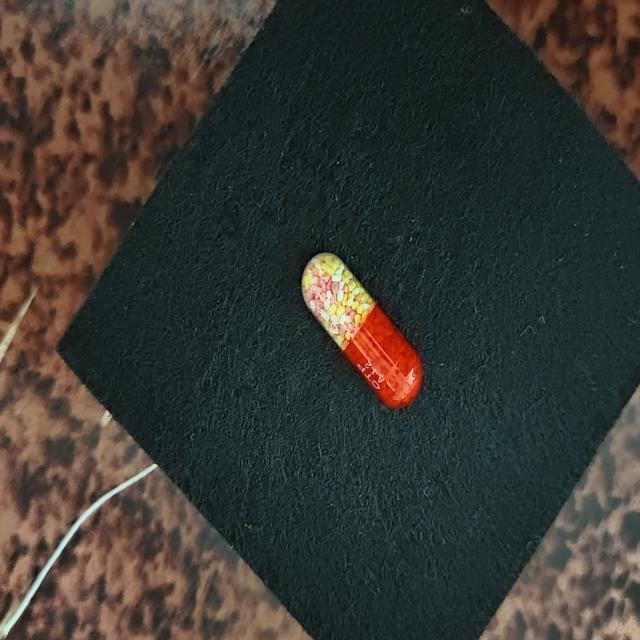Intact Capsule: (302, 253, 423, 409)
